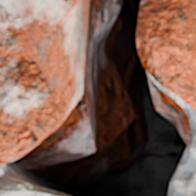broken_brick: (0, 0, 74, 169), (137, 0, 195, 110)
crack: (2, 0, 194, 195)
